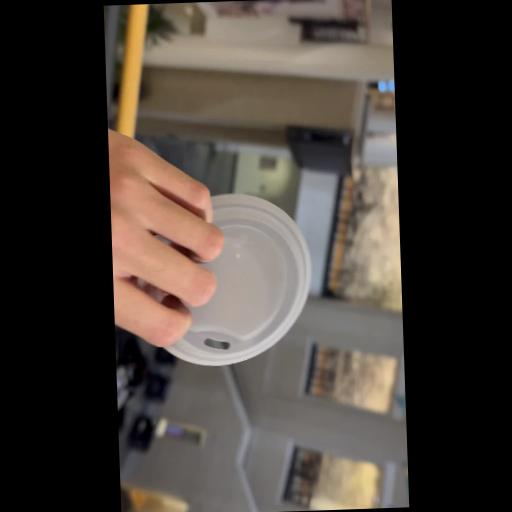lp_cup_lids: (152, 191, 316, 365)
